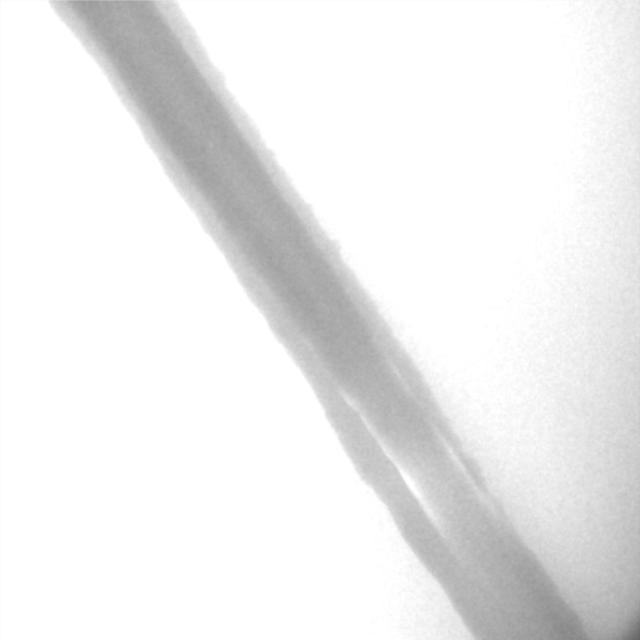unfused: (339, 373, 483, 529)
